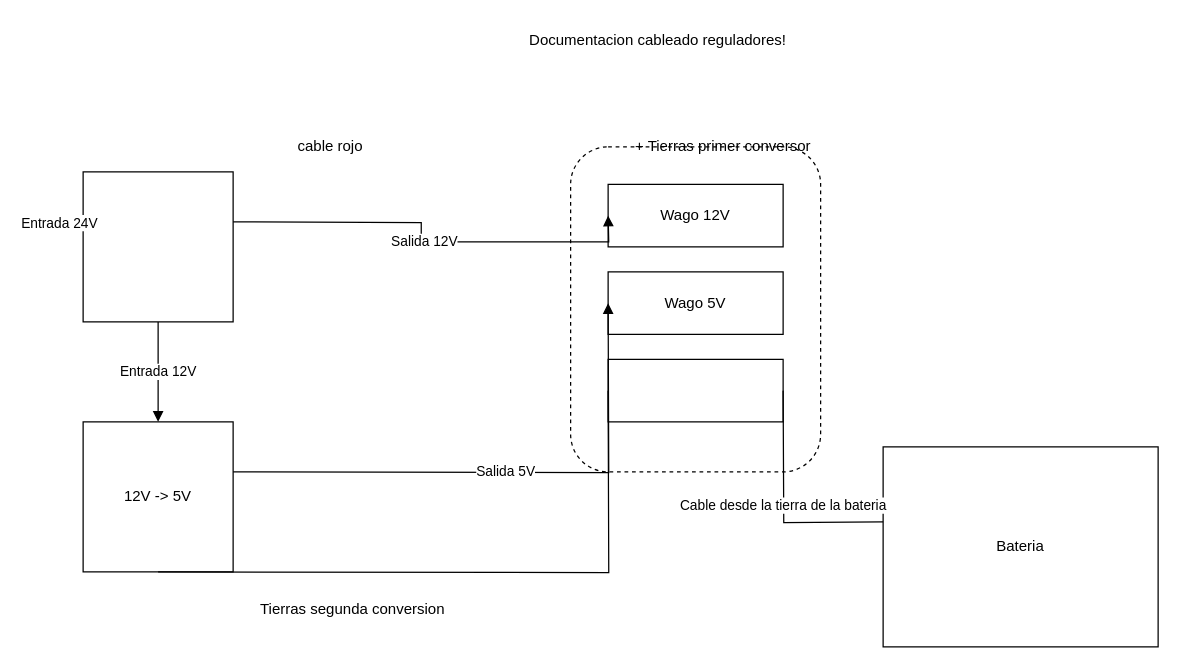
The diagram is 1180 pixels wide and 669 high, and some of its shapes have lost their labels. The shapes that lost their labels are listed below. From the top down, each one's centre as x and y in pixels, then its label:
At point 157,246: "48V -> 12V".
At point 695,390: "Wago tierra".
